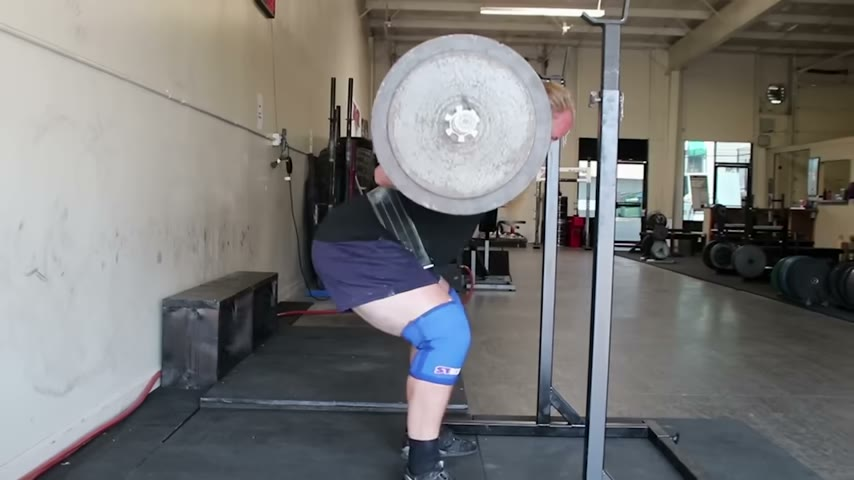barbell_plate_side: (359, 33, 427, 252), (498, 35, 574, 230)
